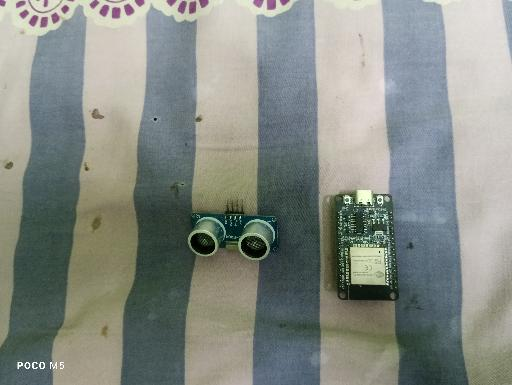Esp32: (334, 189, 400, 302)
sensor: (188, 198, 279, 261)
